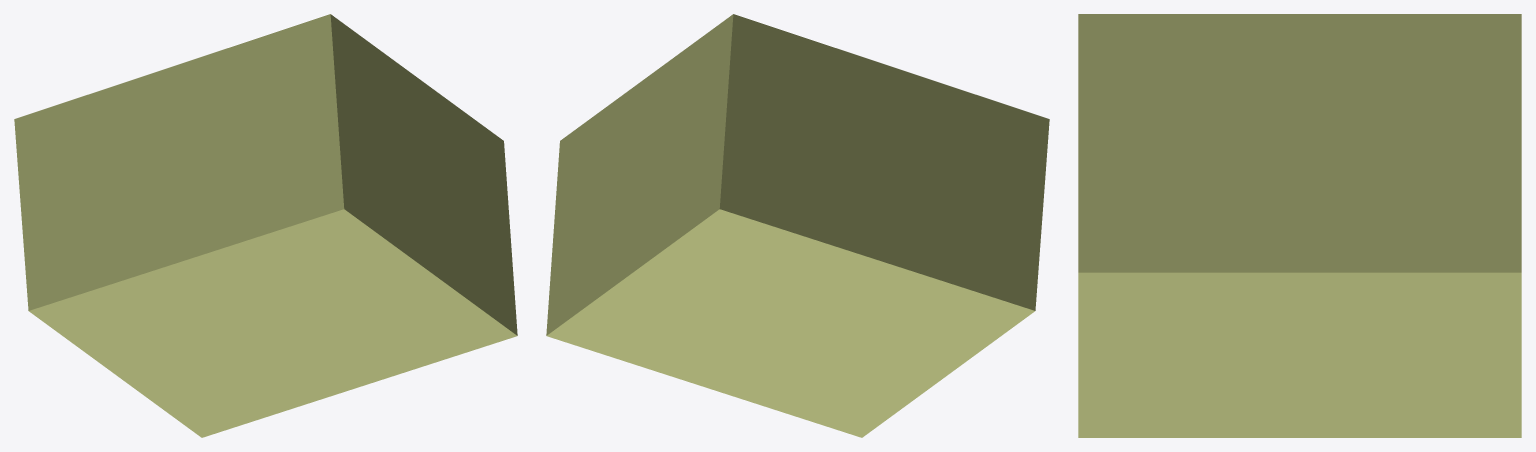
3 views of the same model, side by side, from view 1: azimuth 30°, elevation 25°; view 2: azimuth 150°, elevation 25°; view 3: azimuth 270°, elevation 25° (orthographic). The views are drawn at different scales.
Visible parts, largest first — view 1: 0_1_1_3_3_1_2_0_0_0_2; view 2: 0_1_1_3_3_1_2_0_0_0_2; view 3: 0_1_1_3_3_1_2_0_0_0_2.
Part boxes in pixels (<box>): 0_1_1_3_3_1_2_0_0_0_2: <box>14,14,517,437</box>; 0_1_1_3_3_1_2_0_0_0_2: <box>546,14,1049,437</box>; 0_1_1_3_3_1_2_0_0_0_2: <box>1078,14,1521,437</box>.
Size of the model in its own units: 9.89 by 6.4 by 9.
